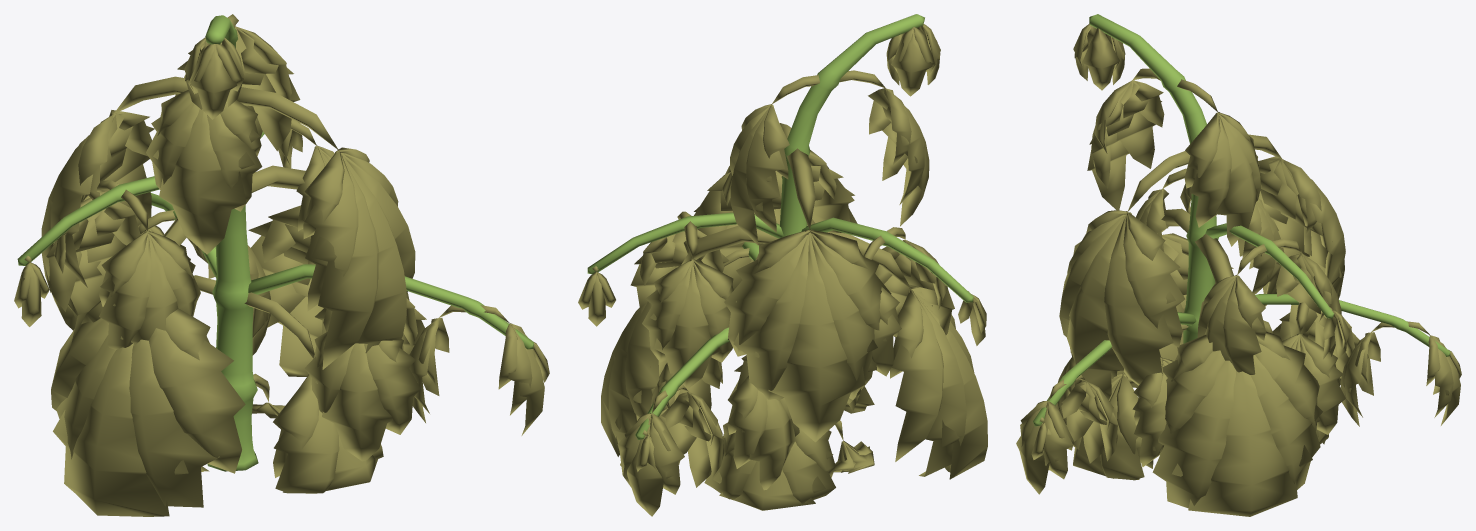
File: plant_vegetative_dry.glb
3 views of the same model, side by side, from view 1: azimuth 30°, elevation 25°; view 2: azimuth 150°, elevation 25°; view 3: azimuth 270°, elevation 25° (orthographic). The views are drawn at different scales.
Parts seen in each view (by area): view 1: Leaves; view 2: Leaves; view 3: Leaves.
Part boxes in pixels (<box>): Leaves: <box>14,14,549,516</box>; Leaves: <box>578,14,987,516</box>; Leaves: <box>1016,14,1461,516</box>.
Bounding box in the file's own units: 0.5074 × 0.5436 × 0.5383.
